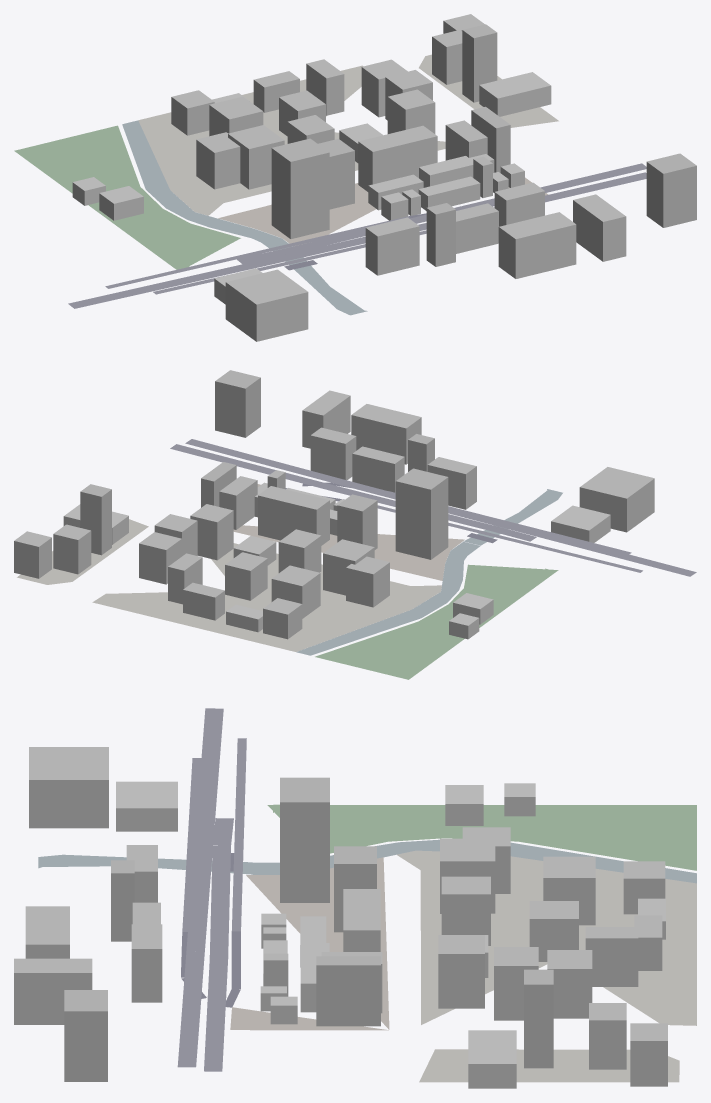
File: 124_92_mid.glb
3 renders of one model, top to bottom at view 1: azimuth 30°, elevation 25°; view 2: azimuth 150°, elevation 25°; view 3: azimuth 270°, elevation 25°, orthographic. The views are drawn at different scales.
Bounding box in the file's own units: 659 × 84.82 × 518.
